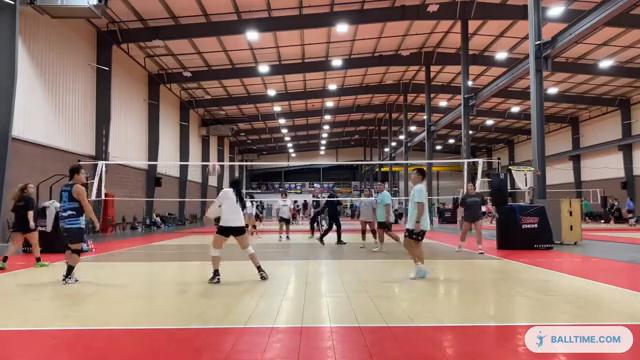Player: (59, 164, 98, 283), (0, 183, 48, 269), (403, 168, 429, 278), (456, 183, 484, 253), (373, 183, 399, 251), (318, 191, 345, 245), (359, 188, 376, 247), (276, 192, 292, 241), (245, 194, 260, 237), (309, 190, 321, 237)
Receive: (198, 174, 269, 285)
ball: (208, 164, 220, 176)
